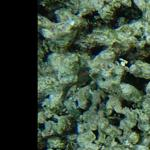dead: (38, 3, 148, 145)
